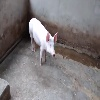heo: (27, 16, 59, 67)
